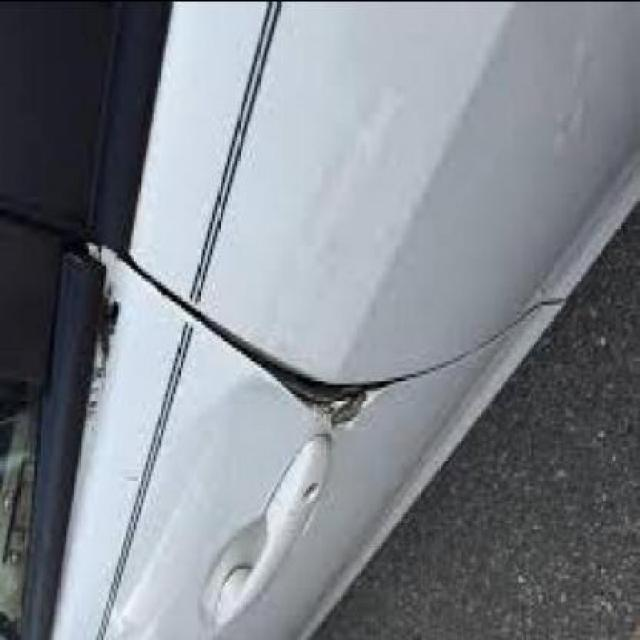damage: (113, 251, 427, 439), (70, 260, 127, 412)
